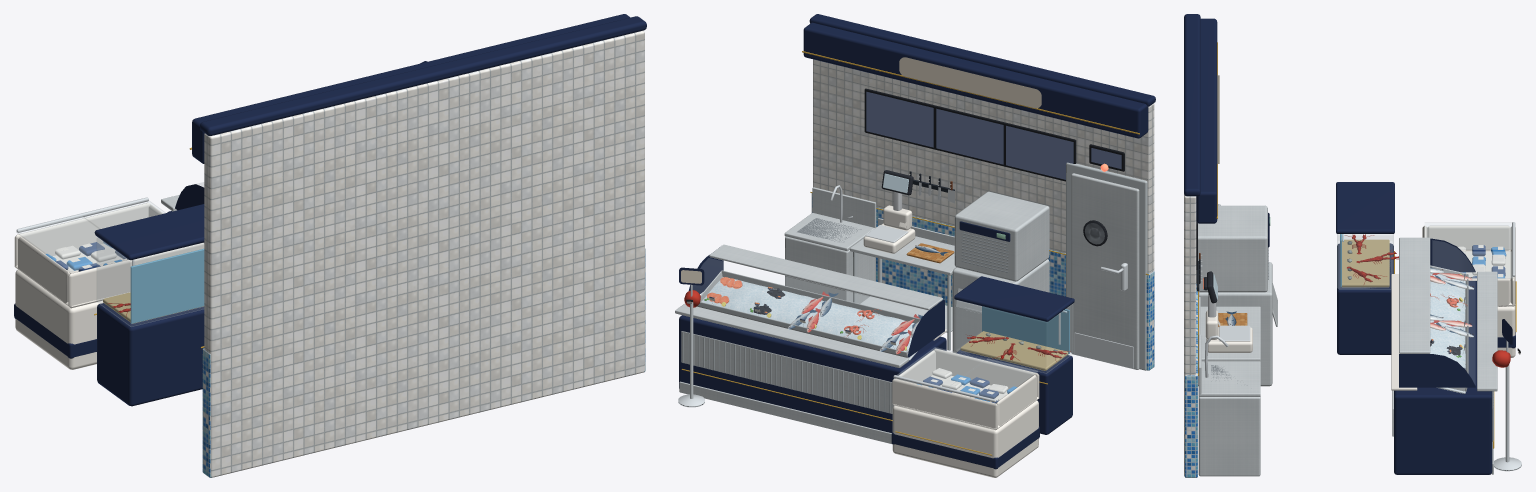
Rendered from sector-peixaria_T3.fbx.
3 renders of one model, left to right at view 1: azimuth 30°, elevation 25°; view 2: azimuth 150°, elevation 25°; view 3: azimuth 270°, elevation 25°, orthographic. The views are drawn at different scales.
Visible parts, largest first — view 1: Body; view 2: Body; view 3: Body.
Boxes of the visible parts, x1,y1,x2,y2 form: Body: (14,14,646,477); Body: (675,14,1155,477); Body: (1184,14,1521,477).
Size of the model in its own units: 4.04 by 3.08 by 3.26.
